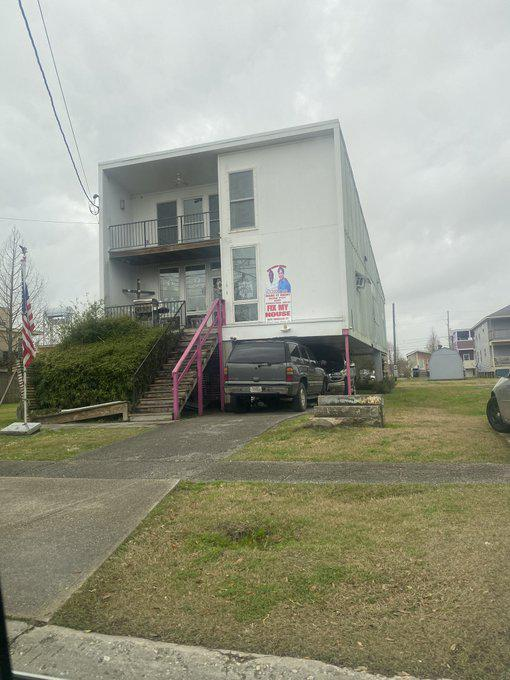affected: (50, 108, 414, 430)
